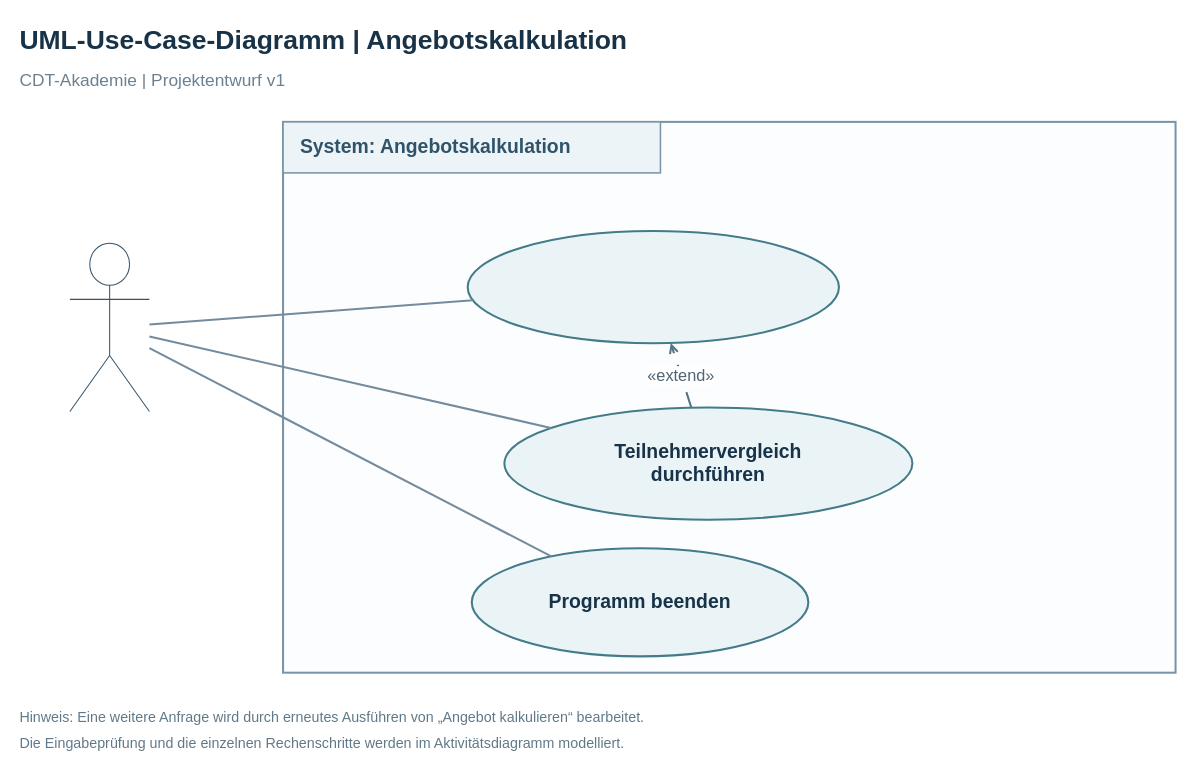
This 1193x775 diagram has some shape labels left out. The shapes that lost their labels are listed below. From the top down, each one's box as (x1, y1, x2, y2) in pixels, then its label:
(466, 230, 839, 344): Angebot kalkulieren
(69, 242, 149, 412): Benutzer
